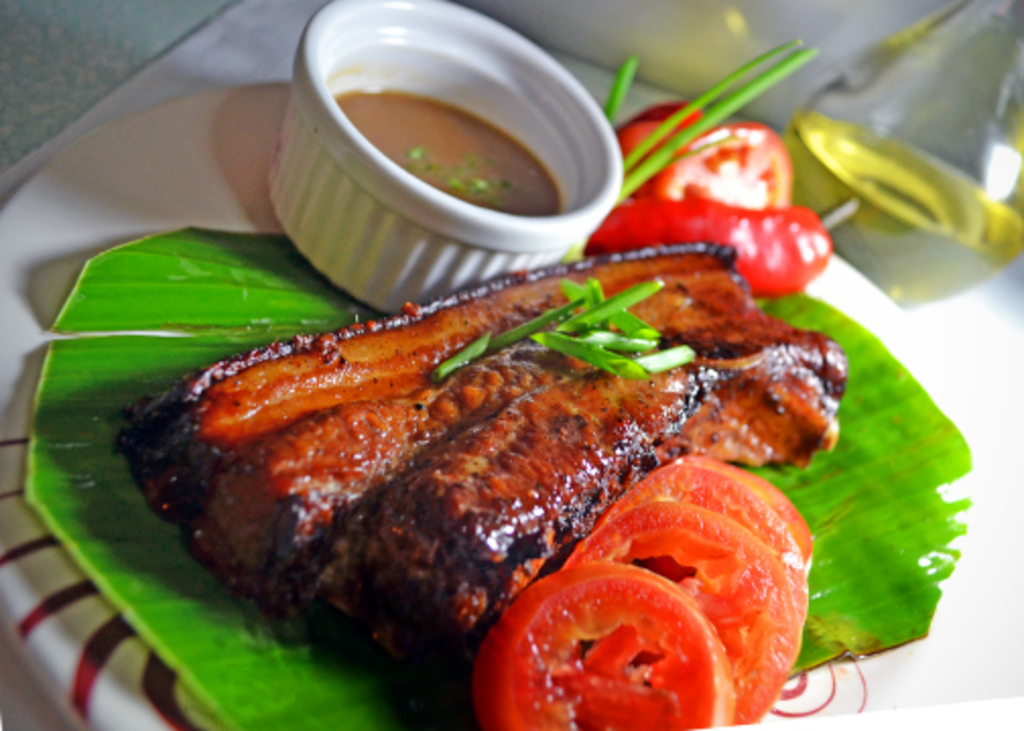Tomato: (557, 506, 801, 718), (473, 564, 729, 728), (610, 458, 816, 566), (616, 109, 797, 209)
